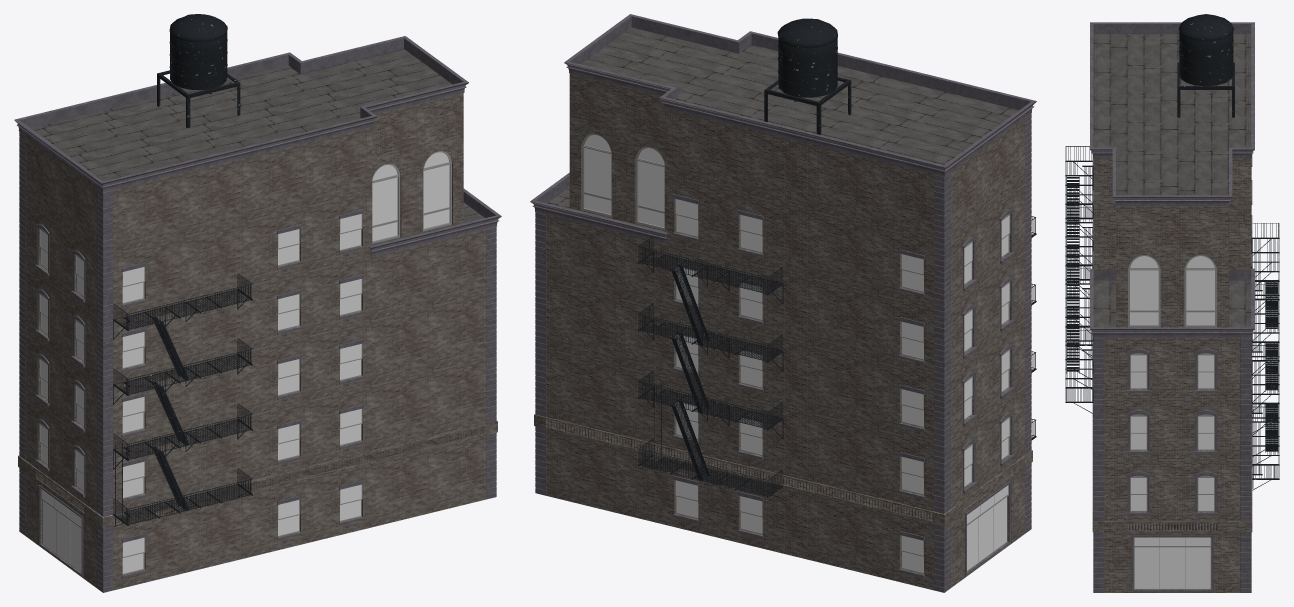
File: Building_15.fbx
3 views of the same model, side by side, from view 1: azimuth 30°, elevation 25°; view 2: azimuth 150°, elevation 25°; view 3: azimuth 270°, elevation 25° (orthographic). The views are drawn at different scales.
Parts seen in each view (by area): view 1: Building_15_LOD0; view 2: Building_15_LOD0; view 3: Building_15_LOD0.
Part boxes in pixels (x1,y1,x2,y2): Building_15_LOD0: (14, 14, 501, 592); Building_15_LOD0: (530, 14, 1036, 592); Building_15_LOD0: (1065, 14, 1279, 592).
Size of what is drawn, in the model's own units: 2355 by 2772 by 1159.
